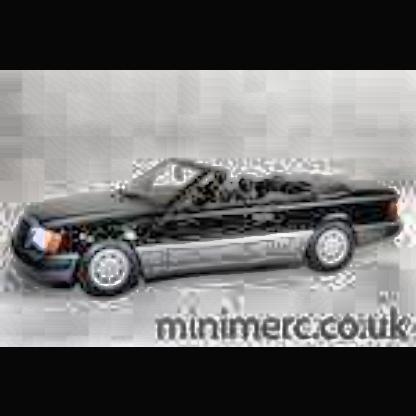Mercedes-Benz 300-Class Convertible 1993: (13, 153, 406, 308)
